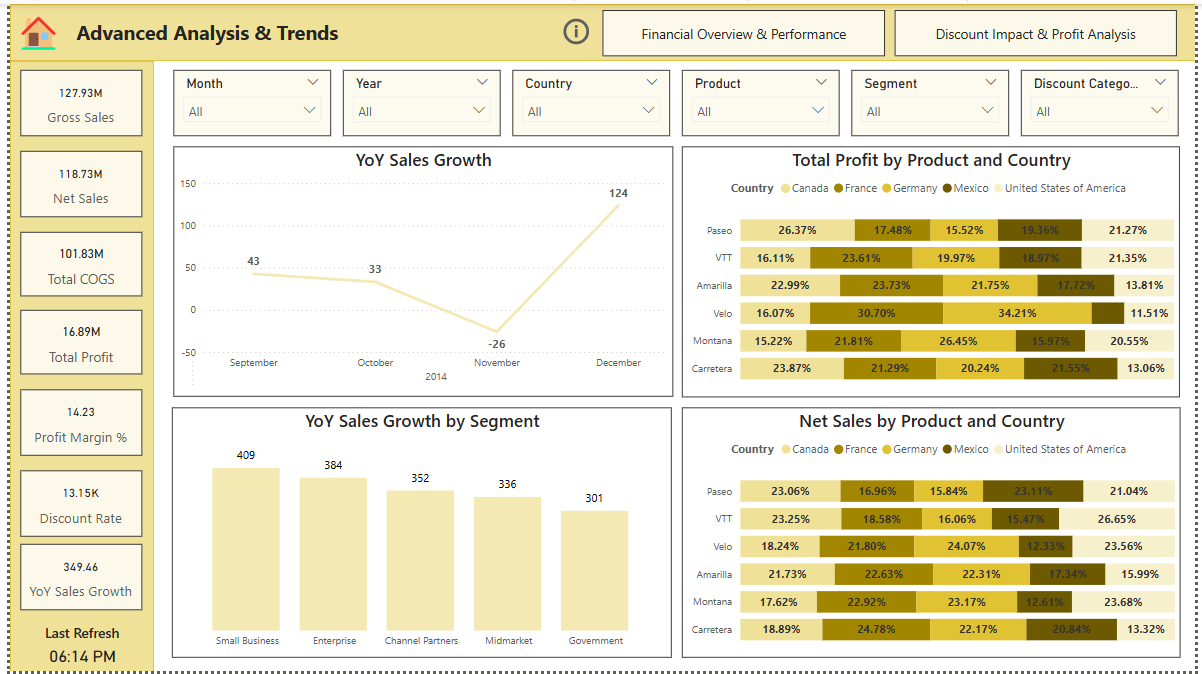

The page's visual inventory and layout, read from the dashboard file:
{"tool":"powerbi","page":{"name":"Advanced Analysis & Trends","canvas":[1280,720],"ordinal":3},"visuals":[{"type":"shape","box":[0,0,1280.8,61.5],"z":0},{"type":"shape","box":[0,61.5,155.4,659],"z":1000},{"type":"textbox","box":[0,0,66.4,61.5],"z":2000},{"type":"actionButton","box":[0,0,66.4,61.5],"z":3000},{"type":"textbox","box":[66.4,0,302.8,61.5],"z":4000},{"type":"pageNavigator","box":[639.6,6.5,621.8,50.2],"z":5000},{"type":"actionButton","box":[592.6,9.7,37.2,40.5],"z":6000},{"type":"slicer","fields":{"Values":["dim_date.Month"]},"box":[176.5,72,170,71.2],"z":7000},{"type":"slicer","fields":{"Values":["dim_date.Year"]},"box":[359.5,72,170,71.2],"z":8000},{"type":"slicer","fields":{"Values":["financials.Country"]},"box":[542.4,72,170,71.2],"z":9000},{"type":"slicer","fields":{"Values":["financials.Product"]},"box":[725.4,72,170,71.2],"z":10000},{"type":"slicer","fields":{"Values":["financials.Segment"]},"box":[908.4,72,170,71.2],"z":11000},{"type":"slicer","fields":{"Values":["financials.Discount Category"]},"box":[1091.4,72,170,71.2],"z":12000},{"type":"card","title":"Last Refresh","fields":{"Values":["Min(LocalTime.LocalTime)"]},"box":[0,668.7,155.4,51.8],"z":13000},{"type":"lineChart","title":"YoY Sales Growth","fields":{"Category":["dim_date.Date.Variation.Date Hierarchy.Year","dim_date.Date.Variation.Date Hierarchy.Month"],"Y":["Measure.YoY Sales Growth %"]},"box":[176.5,153.8,539,270],"z":14000},{"type":"hundredPercentStackedBarChart","fields":{"Category":["financials.Product"],"Series":["financials.Country"],"Y":["Measure.Total Profit"]},"box":[725.4,153.8,537.6,270.4],"z":15000},{"type":"clusteredColumnChart","title":"YoY Sales Growth by Segment","fields":{"Y":["Measure.YoY Sales Growth %"],"Category":["financials.Segment"]},"box":[174.9,435.6,539.2,270],"z":15001},{"type":"hundredPercentStackedBarChart","fields":{"Category":["financials.Product"],"Y":["Measure.Net Sales"],"Series":["financials.Country"]},"box":[725,436,538,270],"z":15002},{"type":"card","fields":{"Values":["Measure.Gross Sales"]},"box":[11.3,71.2,131.2,71.2],"z":15003},{"type":"card","fields":{"Values":["Measure.Net Sales"]},"box":[11.3,158.4,131.2,71.2],"z":15004},{"type":"card","fields":{"Values":["Measure.Profit Margin %"]},"box":[11.3,416.4,131.2,71.2],"z":15005},{"type":"card","fields":{"Values":["Measure.Total Profit"]},"box":[11.3,330.9,131.2,69.6],"z":15006},{"type":"card","fields":{"Values":["Measure.Avg Discount"]},"box":[11.3,503.5,131.2,71.2],"z":15007},{"type":"card","fields":{"Values":["Measure.Total COGS"]},"box":[11.3,245.5,131.2,69.6],"z":15008},{"type":"card","fields":{"Values":["Measure.YoY Sales Growth %"]},"box":[11.3,582.9,131.2,71.2],"z":15009}]}

Visuals, with their boxes in screenshot pixels (x1, y1, x2, y2), scaled from the page's 1280x720 canvas onto the 1202x674 screenshot:
shape: (0, 0, 1201, 58)
shape: (0, 58, 146, 673)
textbox: (0, 0, 62, 58)
actionButton: (0, 0, 62, 58)
textbox: (62, 0, 347, 58)
pageNavigator: (601, 6, 1185, 53)
actionButton: (556, 9, 591, 47)
slicer - dim_date.Month: (166, 67, 325, 134)
slicer - dim_date.Year: (338, 67, 497, 134)
slicer - financials.Country: (509, 67, 669, 134)
slicer - financials.Product: (681, 67, 841, 134)
slicer - financials.Segment: (853, 67, 1013, 134)
slicer - financials.Discount Category: (1025, 67, 1185, 134)
"Last Refresh" card: (0, 626, 146, 673)
"YoY Sales Growth" lineChart: (166, 144, 672, 397)
hundredPercentStackedBarChart - financials.Product x financials.Country: (681, 144, 1186, 397)
"YoY Sales Growth by Segment" clusteredColumnChart: (164, 408, 671, 661)
hundredPercentStackedBarChart - financials.Product x Measure.Net Sales: (681, 408, 1186, 661)
card - Measure.Gross Sales: (11, 67, 134, 133)
card - Measure.Net Sales: (11, 148, 134, 215)
card - Measure.Profit Margin %: (11, 390, 134, 456)
card - Measure.Total Profit: (11, 310, 134, 375)
card - Measure.Avg Discount: (11, 471, 134, 538)
card - Measure.Total COGS: (11, 230, 134, 295)
card - Measure.YoY Sales Growth %: (11, 546, 134, 612)
